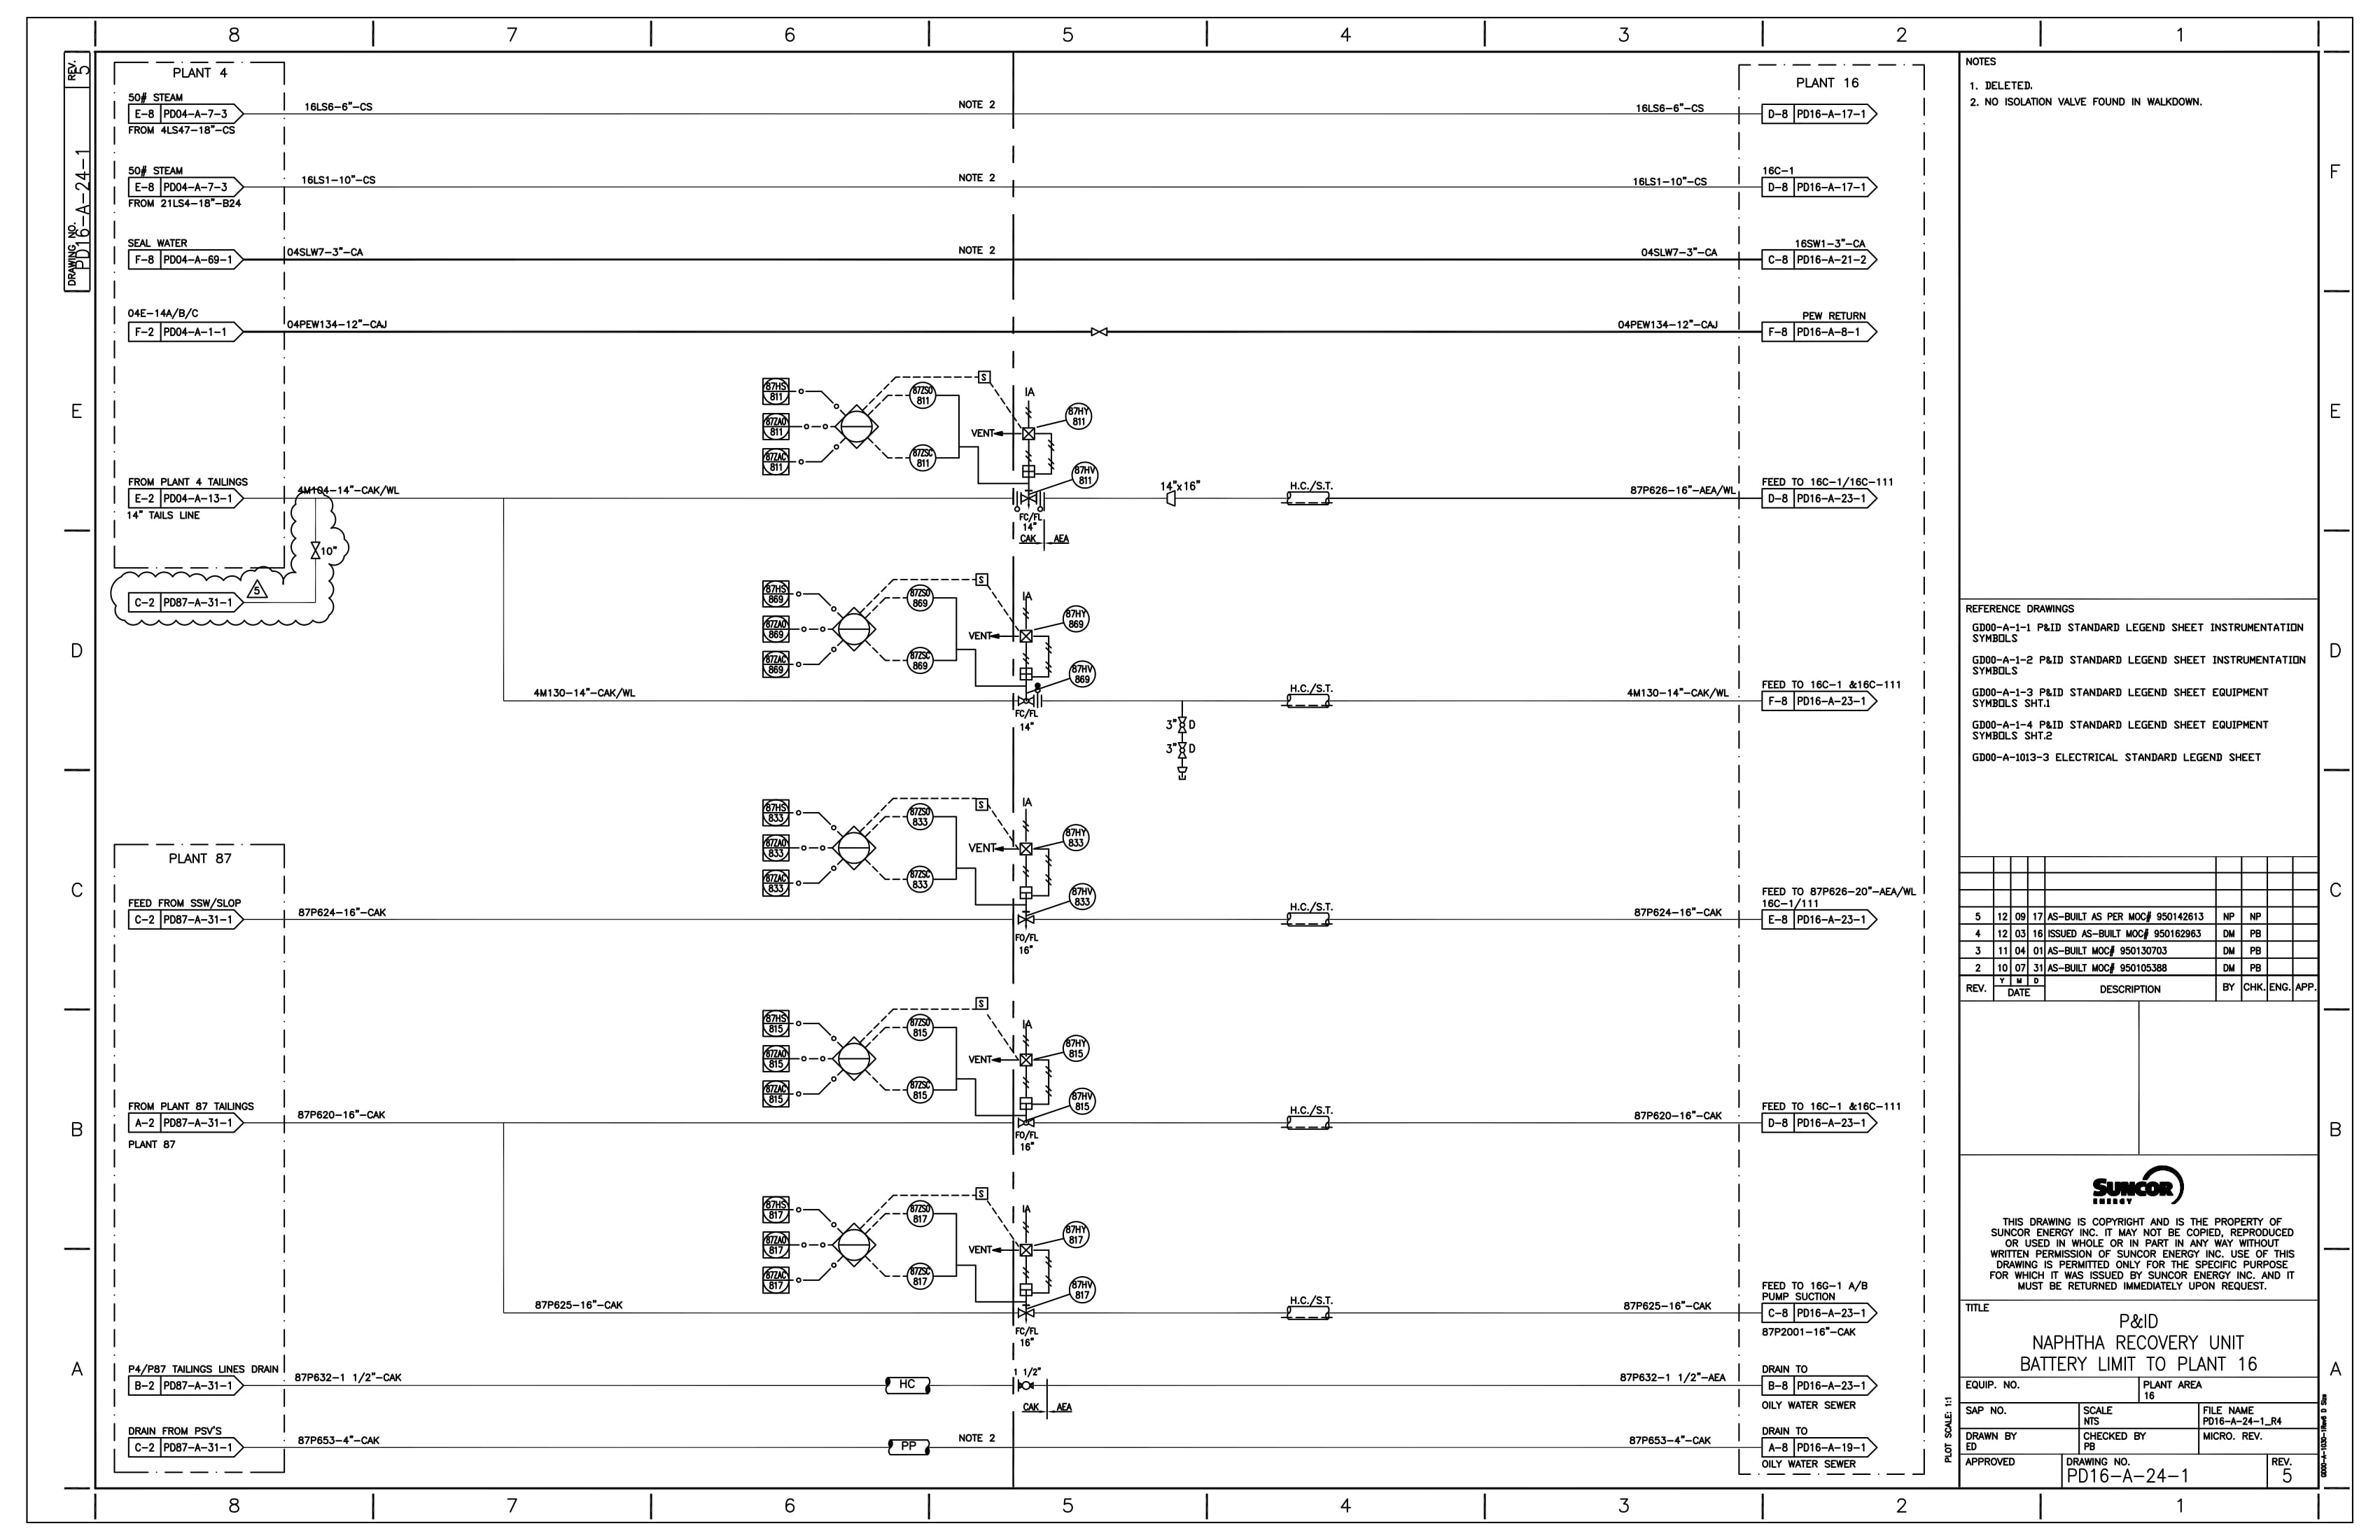Inline Instrument: (899, 860, 956, 909), (902, 1068, 959, 1108), (907, 435, 947, 491), (899, 1011, 949, 1051), (1067, 878, 1110, 923), (902, 574, 940, 624), (904, 1250, 940, 1295), (1063, 1273, 1108, 1308), (1060, 600, 1100, 638), (1070, 458, 1107, 499), (1063, 1080, 1105, 1117), (902, 640, 938, 680), (904, 380, 945, 414), (902, 796, 940, 832), (1065, 657, 1102, 692), (906, 1198, 938, 1237), (1063, 1032, 1093, 1073), (1060, 819, 1091, 853), (1062, 1216, 1091, 1252), (1070, 401, 1093, 435)
